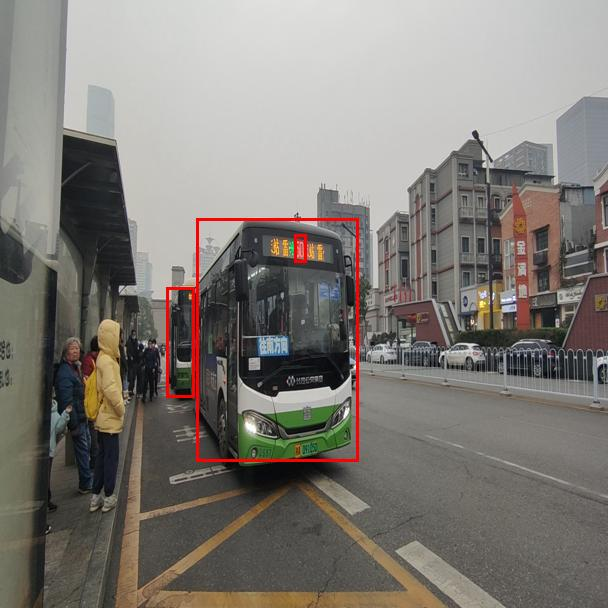bus: (196, 218, 358, 461), (166, 287, 194, 397)
screen: (294, 234, 306, 262)
